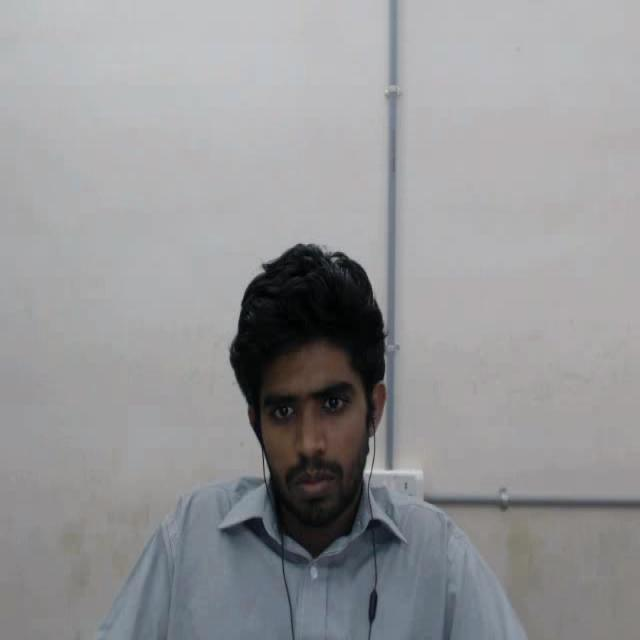Engaged: (196, 216, 435, 564)
